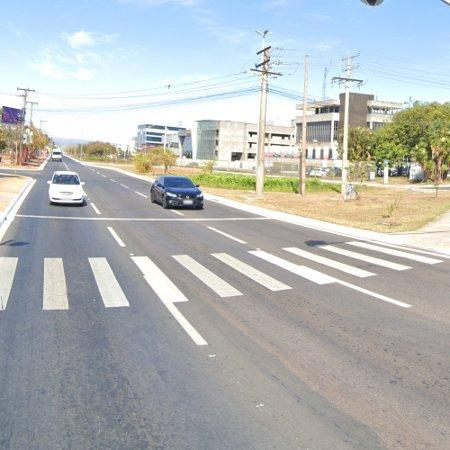crosswalks: (0, 239, 445, 313)
